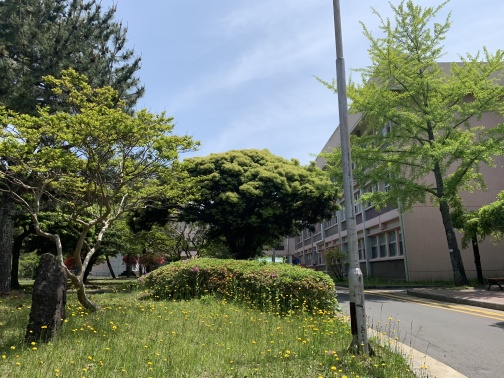College Of Education: (278, 41, 501, 324)
